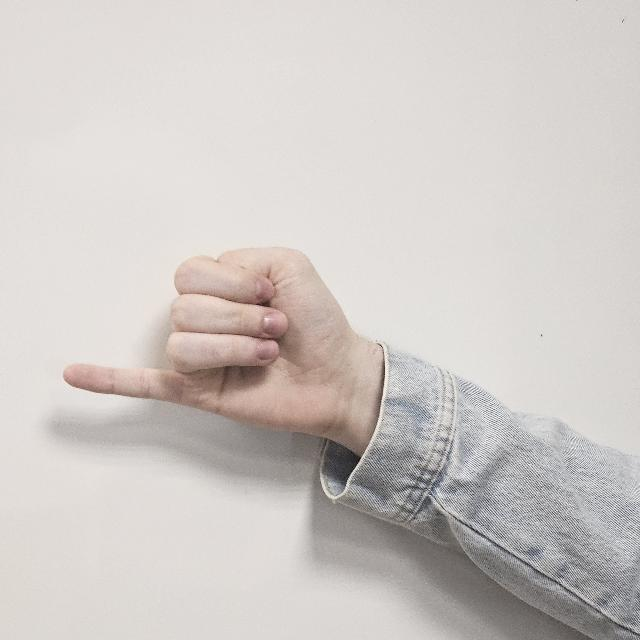Esquerda: (65, 208, 359, 487)
